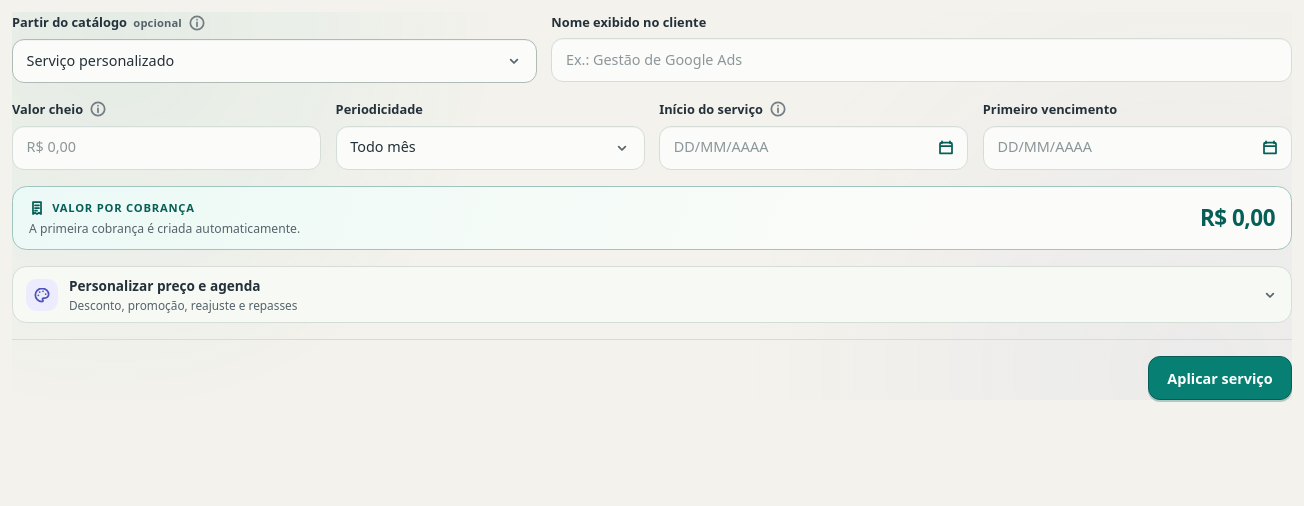
Test: formulário de serviço do cliente › deixa as parcelas à vista na criação quando a cobrança é única
Expected: the field labelled "Parcelas" is not shown
Step 1. Click the dropdown named "Periodicidade" → (383, 147), box [336,126,645,170]
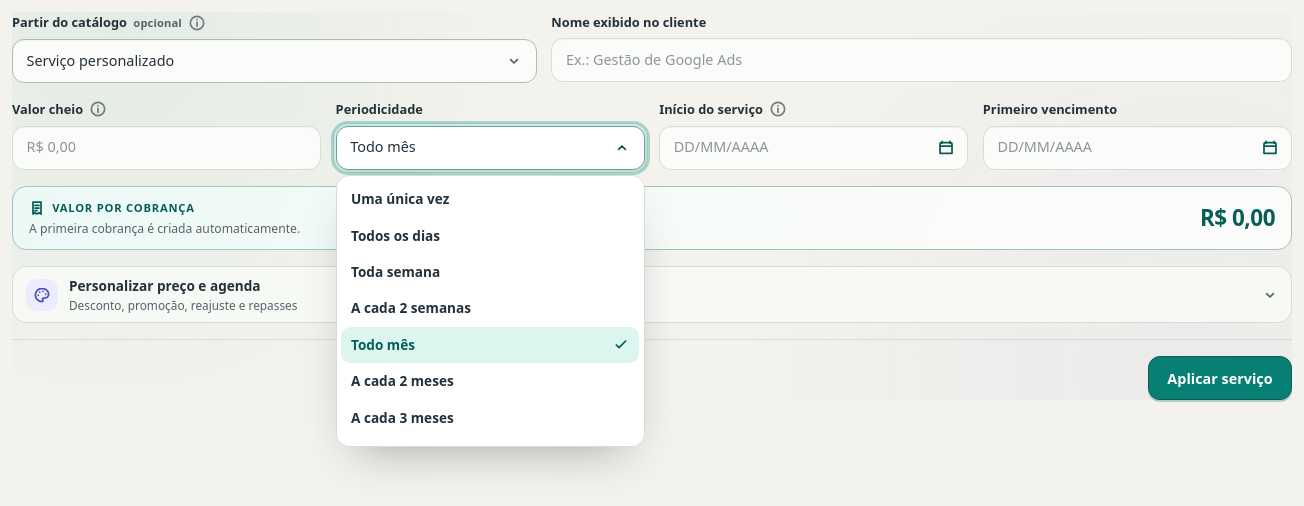
Step 2. Click the option "Uma única vez" → (400, 199), box [341,181,639,218]
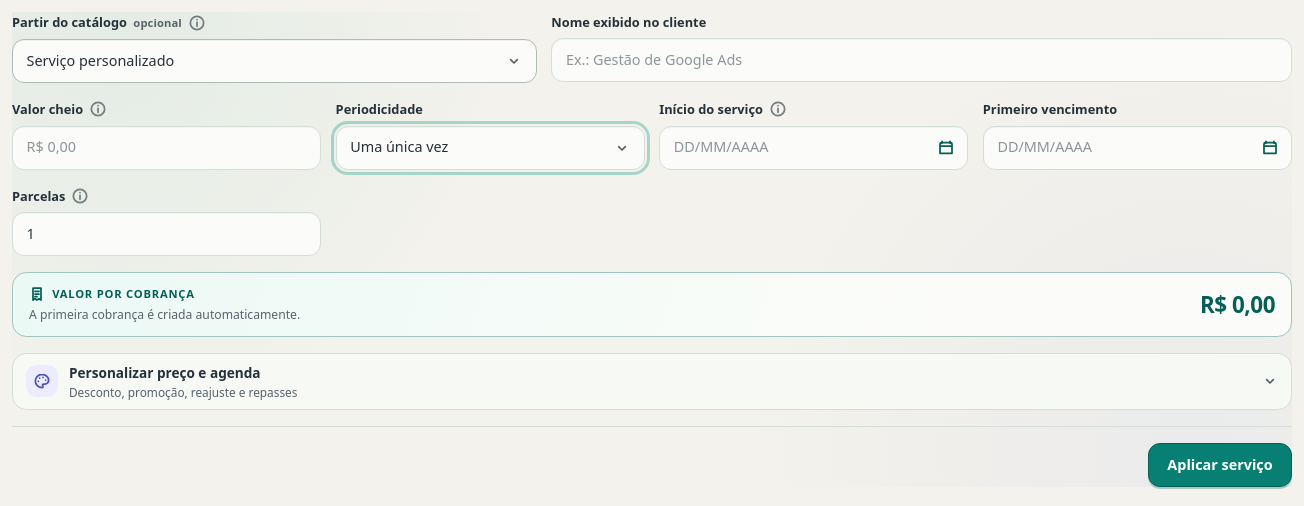
Now the field labelled "Parcelas" holds "1", box [12,212,321,256]
